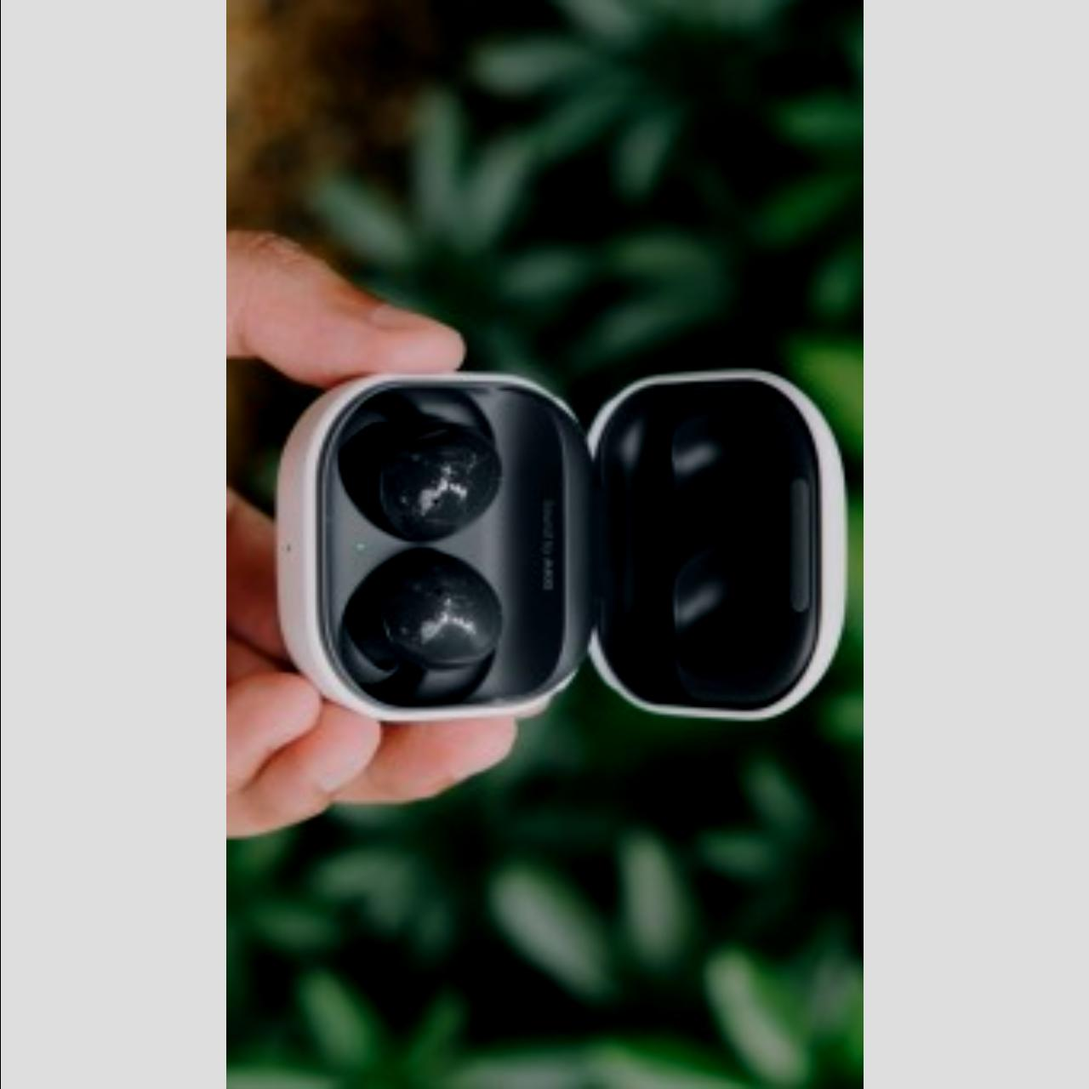Buds: (265, 365, 850, 722)
Buds_Units: (328, 543, 504, 696), (331, 401, 502, 547)
